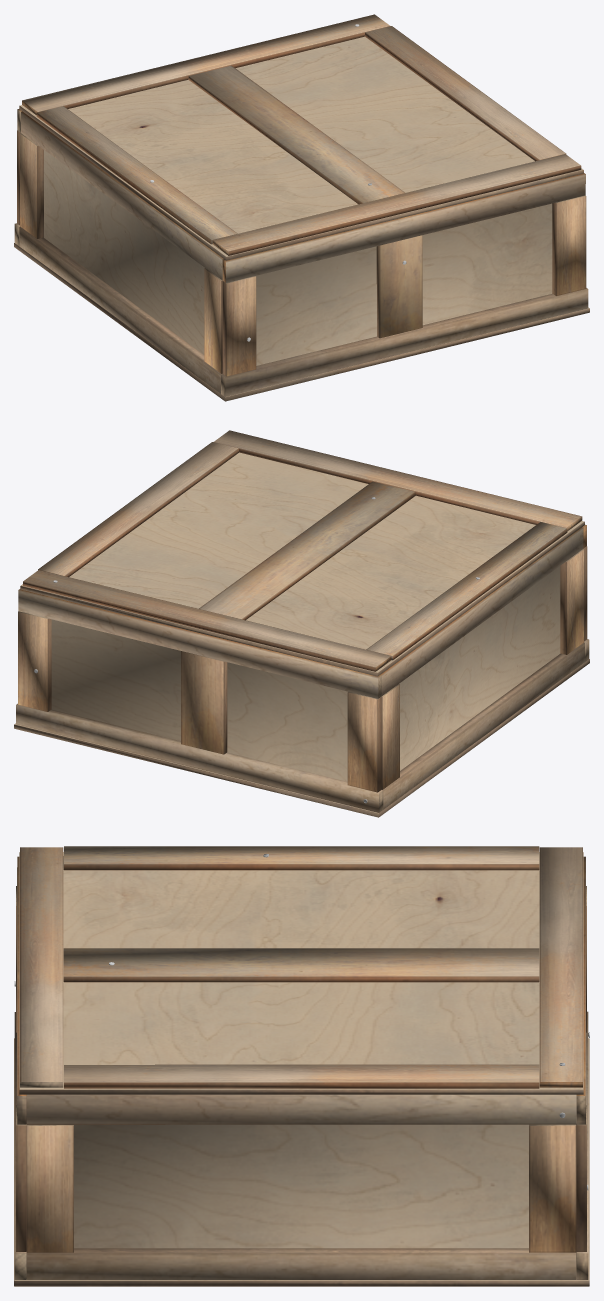
File: crate_ply.glb
3 views of the same model, one above another, from view 1: azimuth 30°, elevation 25°; view 2: azimuth 150°, elevation 25°; view 3: azimuth 270°, elevation 25° (orthographic). The views are drawn at different scales.
Parts seen in each view (by area): view 1: sm_crate_a04_mesh_00; view 2: sm_crate_a04_mesh_00; view 3: sm_crate_a04_mesh_00.
Part boxes in pixels (left/top/right/bottom): sm_crate_a04_mesh_00: left=14, top=14, right=589, bottom=401; sm_crate_a04_mesh_00: left=14, top=430, right=589, bottom=817; sm_crate_a04_mesh_00: left=14, top=846, right=589, bottom=1286.
Size of the model in its own units: 1.21 by 0.4723 by 1.22.
3 materials, 3 textured.
